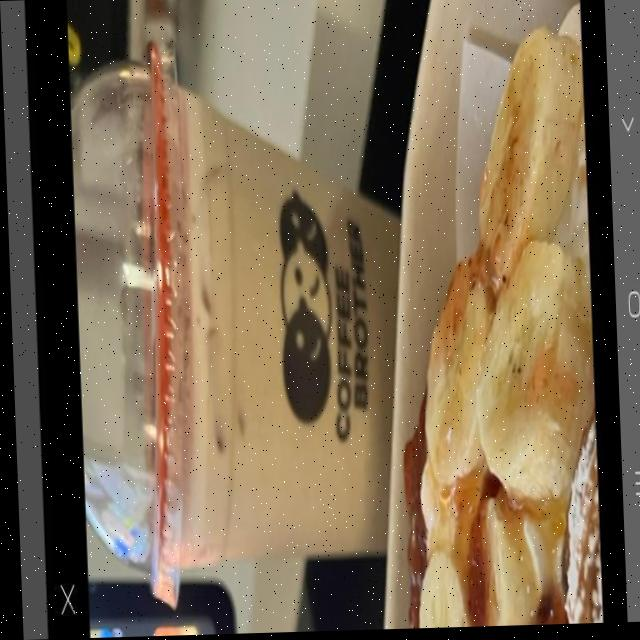cup: (62, 43, 456, 570)
